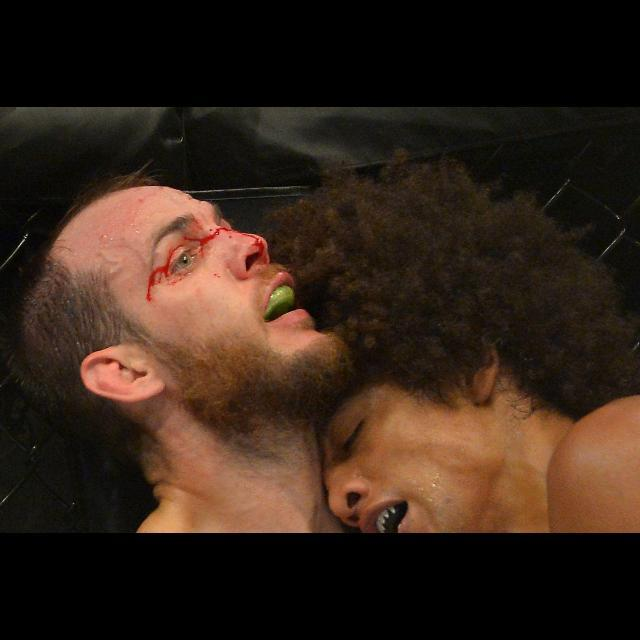blood: (145, 223, 279, 302)
